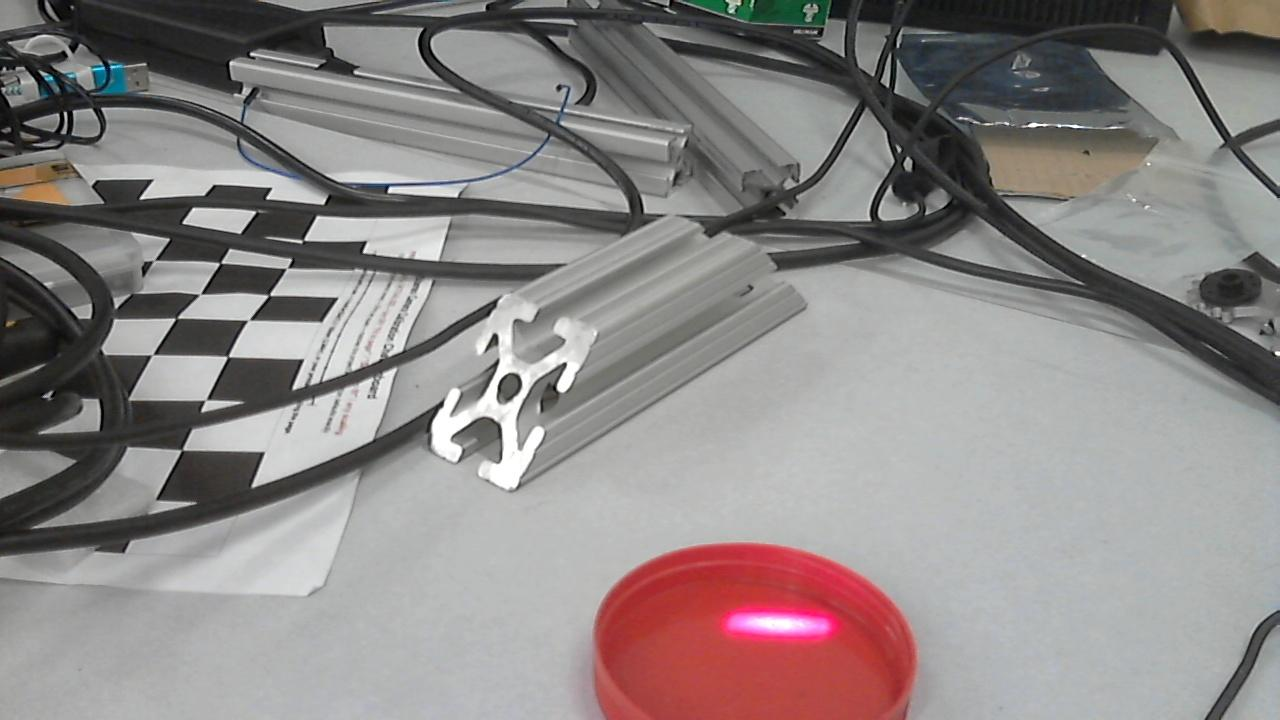Object plastic container lid - Material plastic - Color red - Pdfname ZC63DBkv6o: (715, 592, 846, 655)
